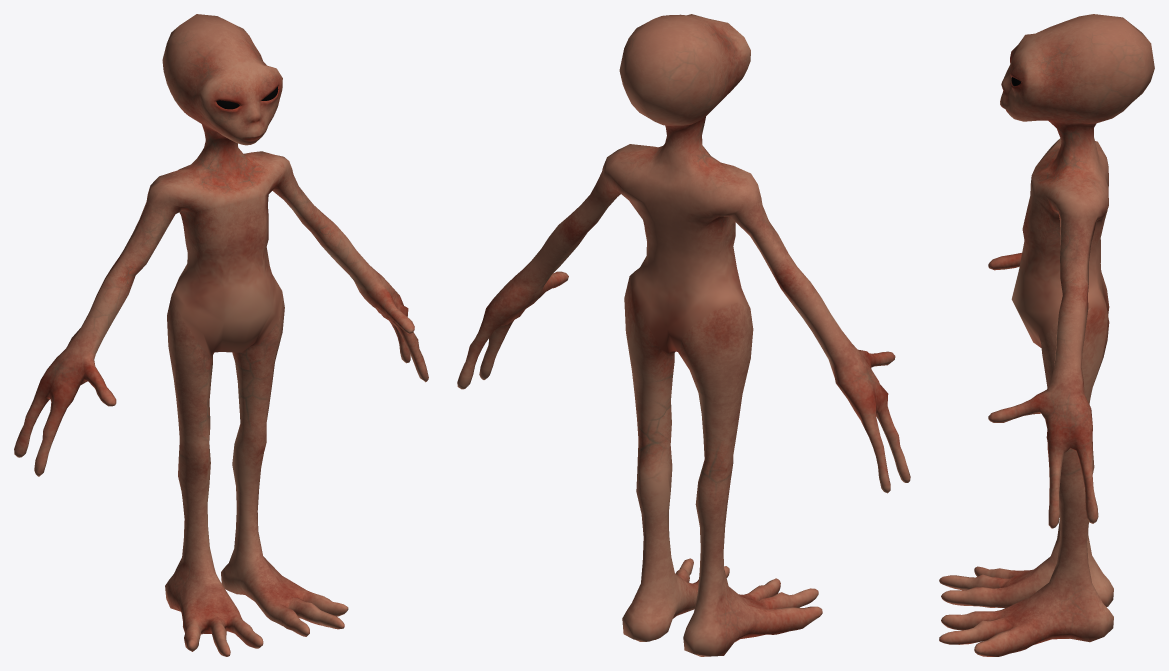
File: alien-model.glb
The picture shows the model from 3 angles, left to right: view 1: azimuth 30°, elevation 25°; view 2: azimuth 150°, elevation 25°; view 3: azimuth 270°, elevation 25°; orthographic projection. The views are drawn at different scales.
Visible parts, largest first — view 1: ALIENO LOWPOLI; view 2: ALIENO LOWPOLI; view 3: ALIENO LOWPOLI.
Boxes of the visible parts, left/top/right/bottom form: ALIENO LOWPOLI: left=14, top=14, right=428, bottom=656; ALIENO LOWPOLI: left=457, top=14, right=910, bottom=656; ALIENO LOWPOLI: left=939, top=14, right=1154, bottom=656.
Size of the model in its own units: 17.46 by 24.2 by 7.86.
2 materials, 1 textured.
